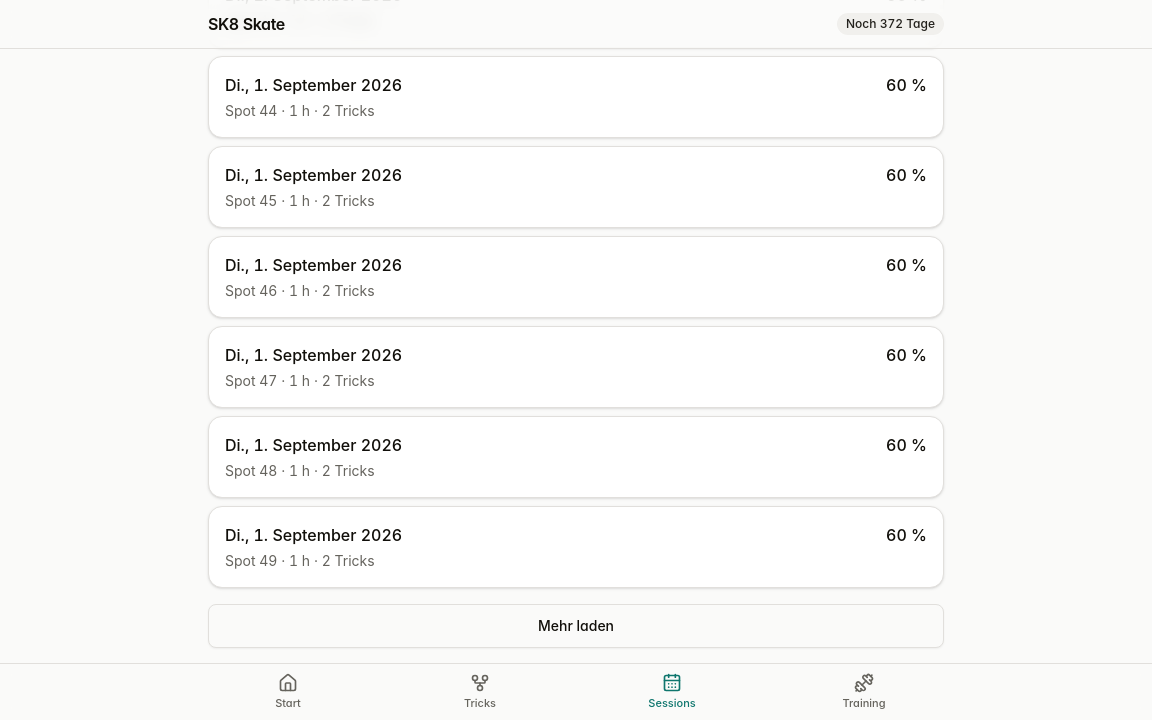
Test: SessionListScreen › Kriterium 6: shows 'Mehr laden' while more sessions exist and loads the rest on tap
(page scrolled)
Click the button "Mehr laden": (576, 626) [208,604,944,648]
(page scrolled)
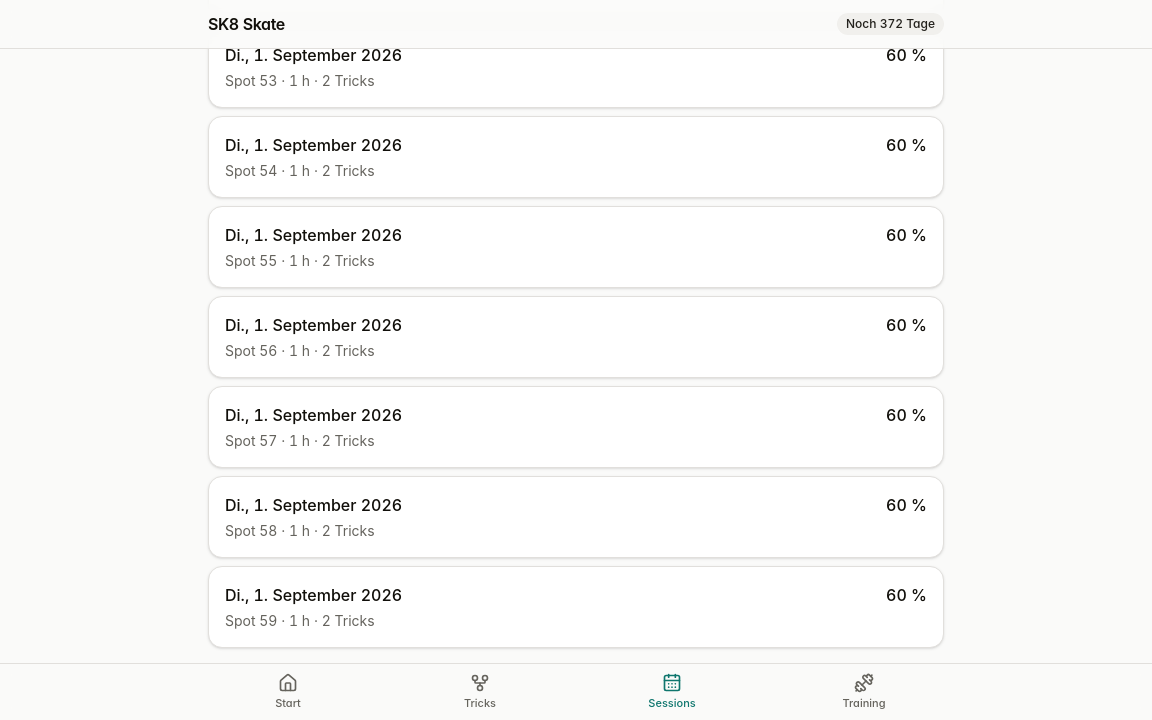
Now the text "Spot 59" is shown, box [225,612,278,629]
Now the button "Mehr laden" is gone
